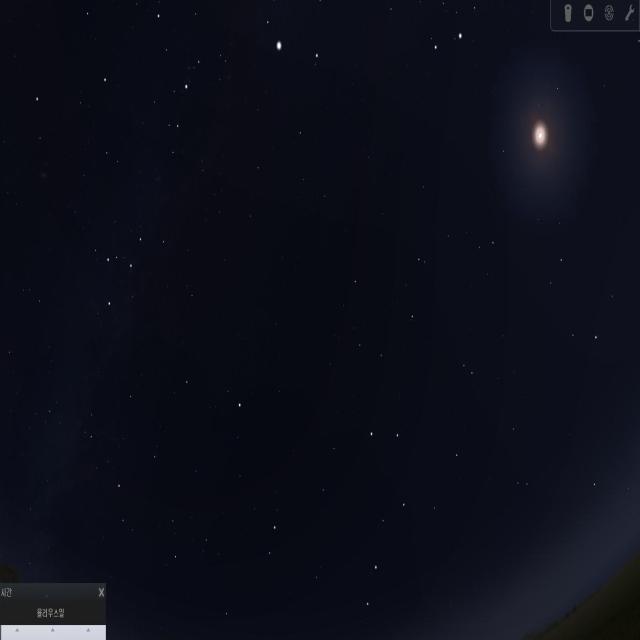moon: (507, 77, 566, 191)
ursa_major: (354, 397, 418, 620)
